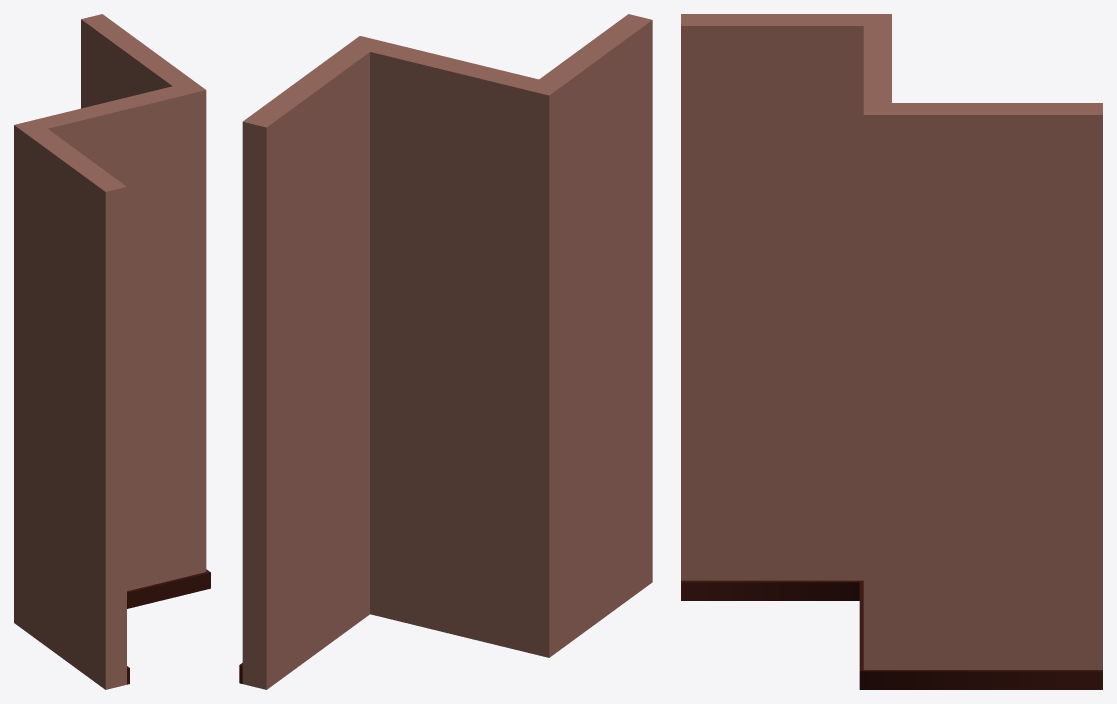
The model's file is T_Angles_02.fbx.
3 views of the same model, side by side, from view 1: azimuth 30°, elevation 25°; view 2: azimuth 150°, elevation 25°; view 3: azimuth 270°, elevation 25° (orthographic). The views are drawn at different scales.
Parts seen in each view (by area): view 1: T_Angles_02; view 2: T_Angles_02; view 3: T_Angles_02.
Boxes of the visible parts, x1=… form: T_Angles_02: x1=14, y1=14, x2=210, y2=689; T_Angles_02: x1=239, y1=14, x2=652, y2=689; T_Angles_02: x1=681, y1=14, x2=1102, y2=689.
Bounding box in the file's own units: 115 × 300 × 200.
